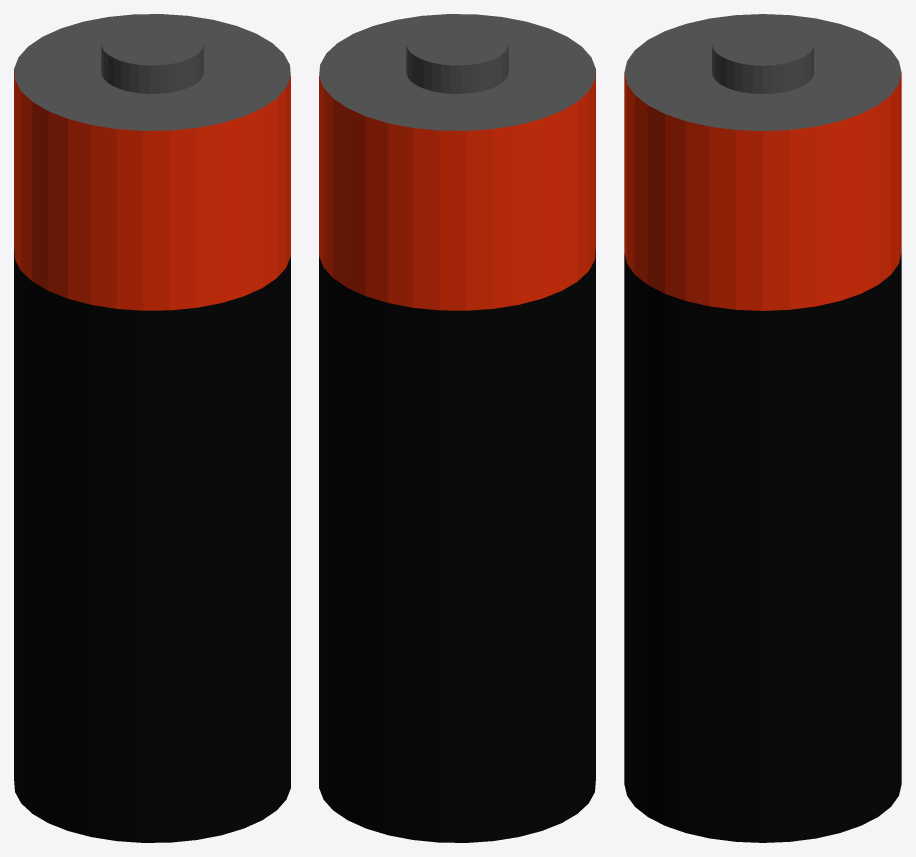
The model's file is Battery.obj.
3 renders of one model, left to right at view 1: azimuth 30°, elevation 25°; view 2: azimuth 150°, elevation 25°; view 3: azimuth 270°, elevation 25°, orthographic.
Visible parts, largest first — view 1: Cylinder; view 2: Cylinder; view 3: Cylinder.
Part boxes in pixels (x1,y1,x2,y2): Cylinder: (14, 14, 290, 842); Cylinder: (319, 14, 595, 842); Cylinder: (624, 14, 901, 842).
Bounding box in the file's own units: 0.7059 × 2.08 × 0.7059.
